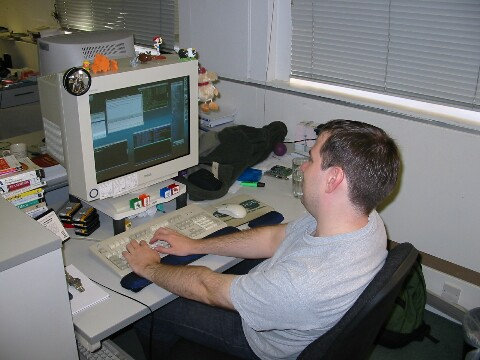person: (124, 120, 401, 360)
